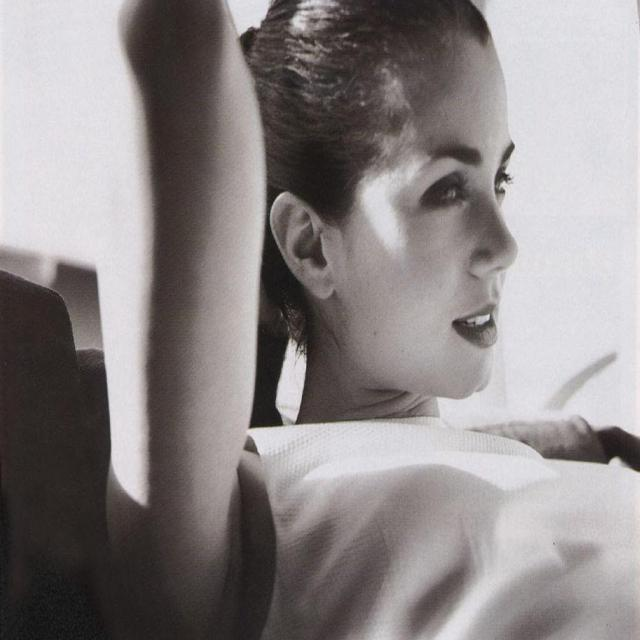no-earmuff: (259, 182, 359, 330)
